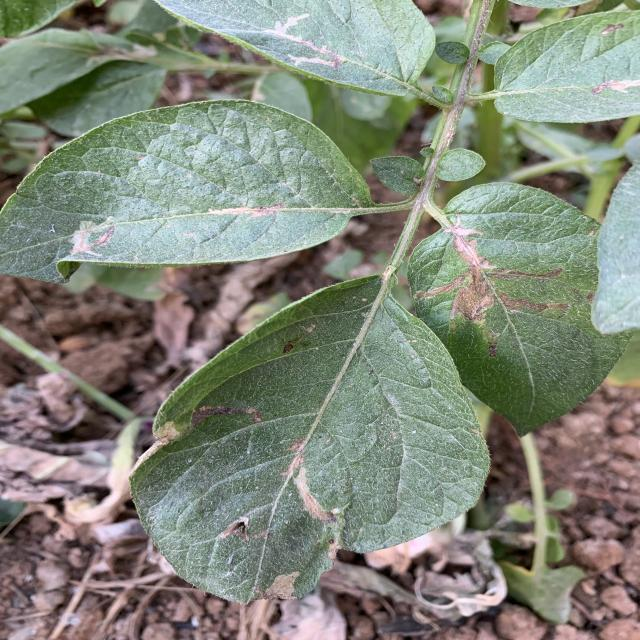lateblight: (450, 216, 495, 332), (293, 468, 337, 522), (68, 216, 115, 256), (497, 290, 570, 312), (192, 405, 263, 425), (208, 204, 287, 220), (257, 571, 300, 599), (280, 439, 307, 478), (487, 268, 563, 281), (282, 325, 315, 354), (220, 516, 250, 541), (413, 285, 447, 305), (488, 334, 498, 358)
